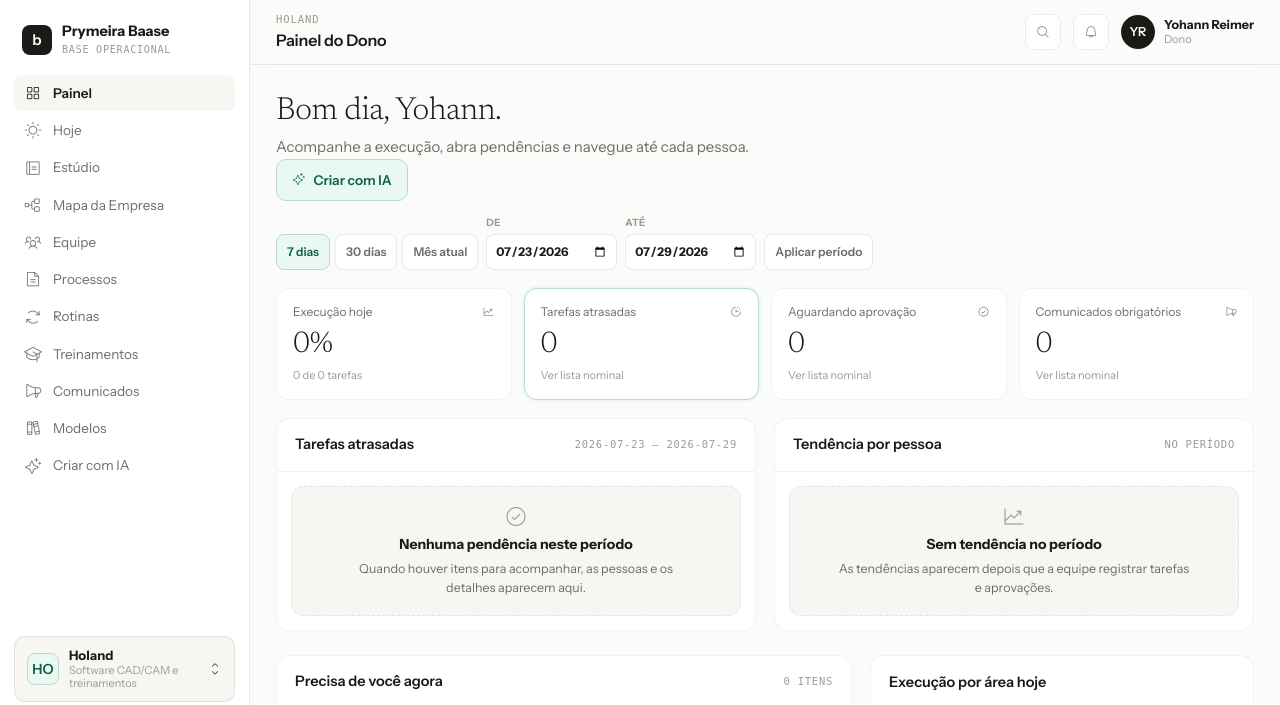
Test: Baase React app shell › uses email-only invitations and a conditional area picker in account mode
Click the link "Equipe".
click(60, 242)  # box [24,233,96,251]
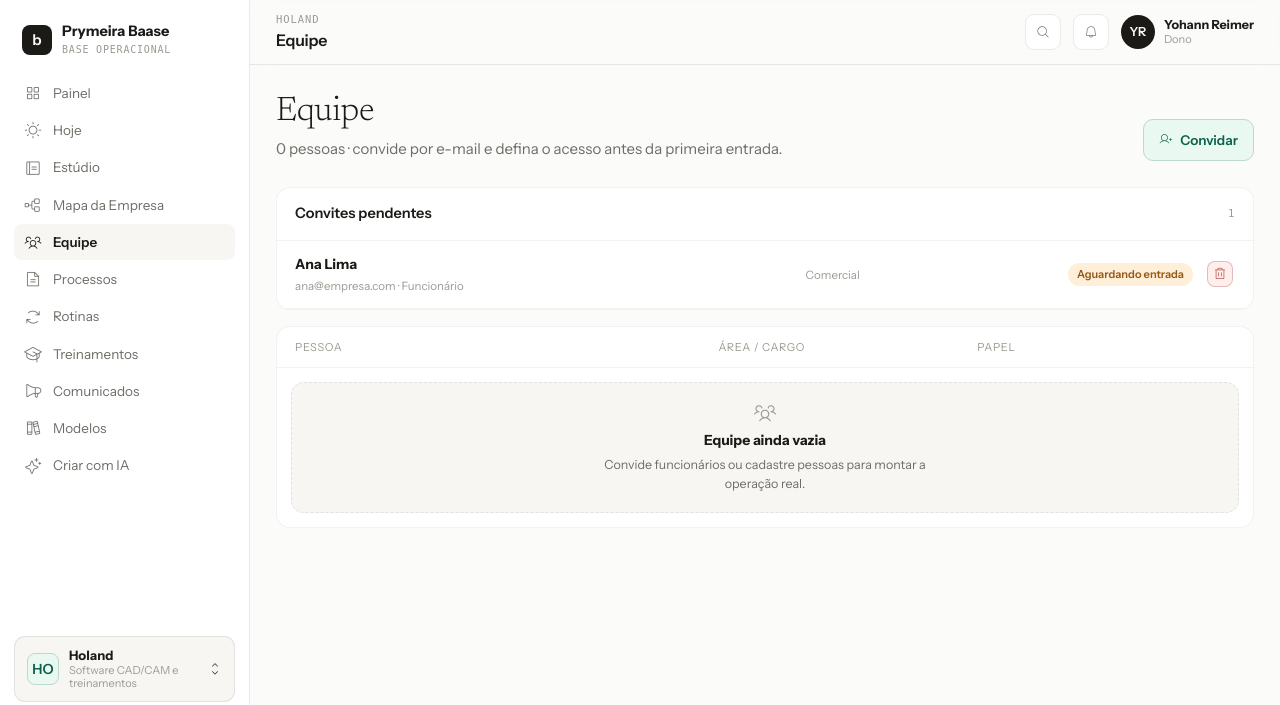
Check: the text "convide por e-mail" is shown, box [286,139,782,158]
Check: the heading "Convites pendentes" is shown, box [295,204,432,222]
Check: the text "ana@empresa.com · Funcionário" is shown, box [295,279,464,293]
Click the button "Convidar".
click(1198, 140)  # box [1143,119,1254,161]
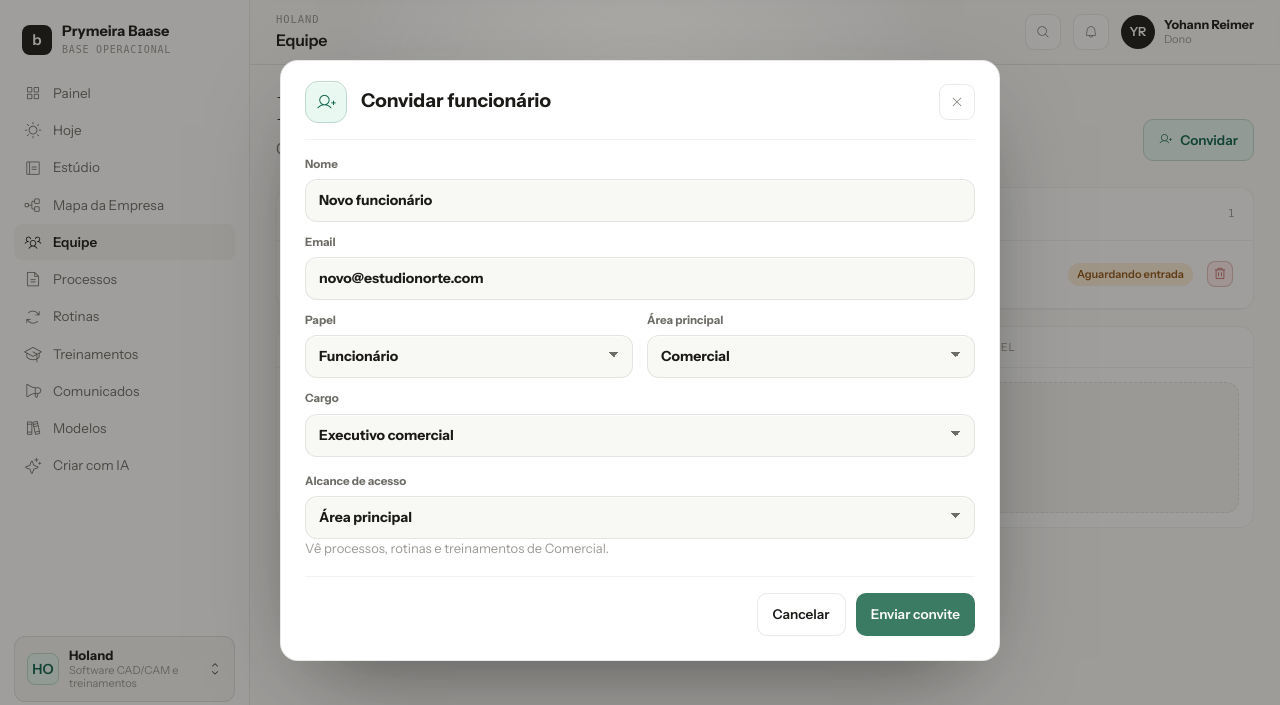
Check: the element "Áreas específicas" is not shown
Check: the dropdown labelled "Alcance de acesso" is shown
Select "Áreas específicas" in the dropdown labelled "Alcance de acesso" at (640, 517), box [305,496,975,539]
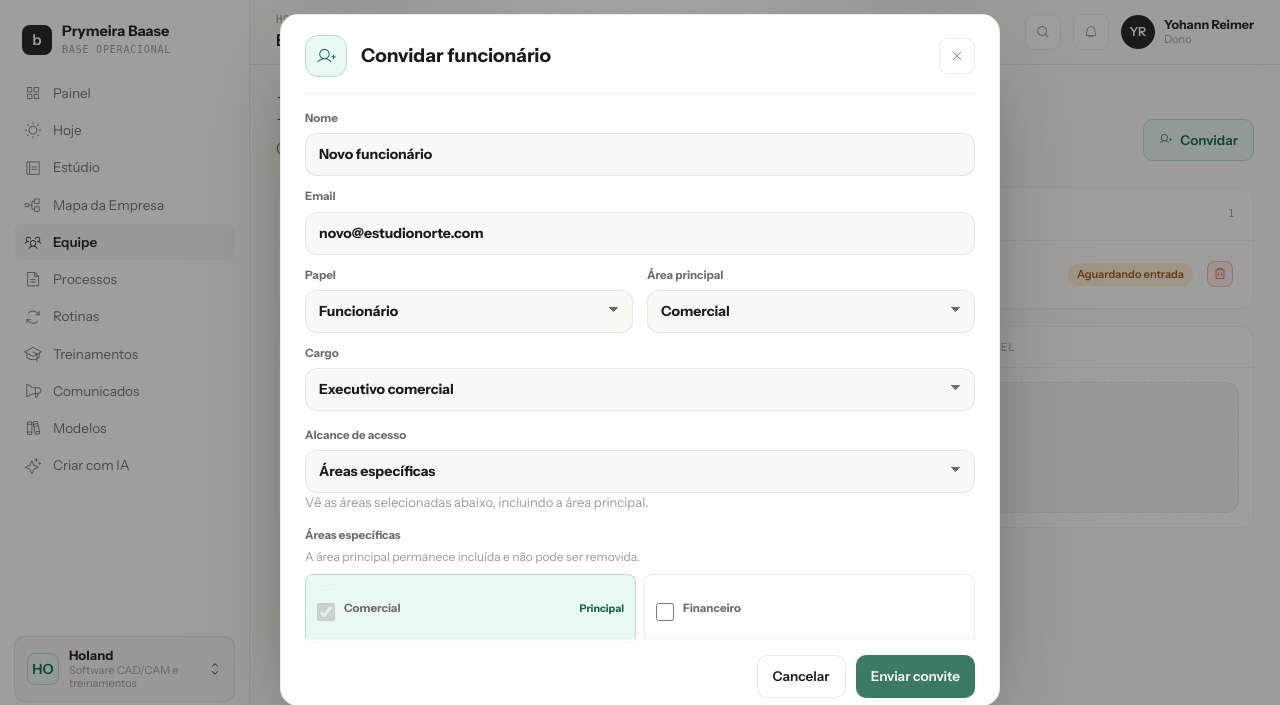
Check: the element "Áreas específicas" is shown, box [305,527,975,644]
Check: the checkbox labelled "Financeiro" is shown, box [656,591,674,633]
